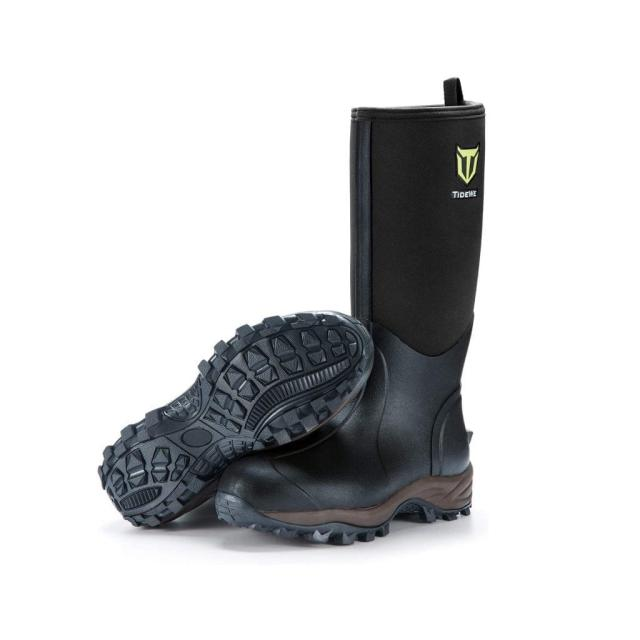boot: (154, 83, 557, 548), (72, 307, 366, 515)
